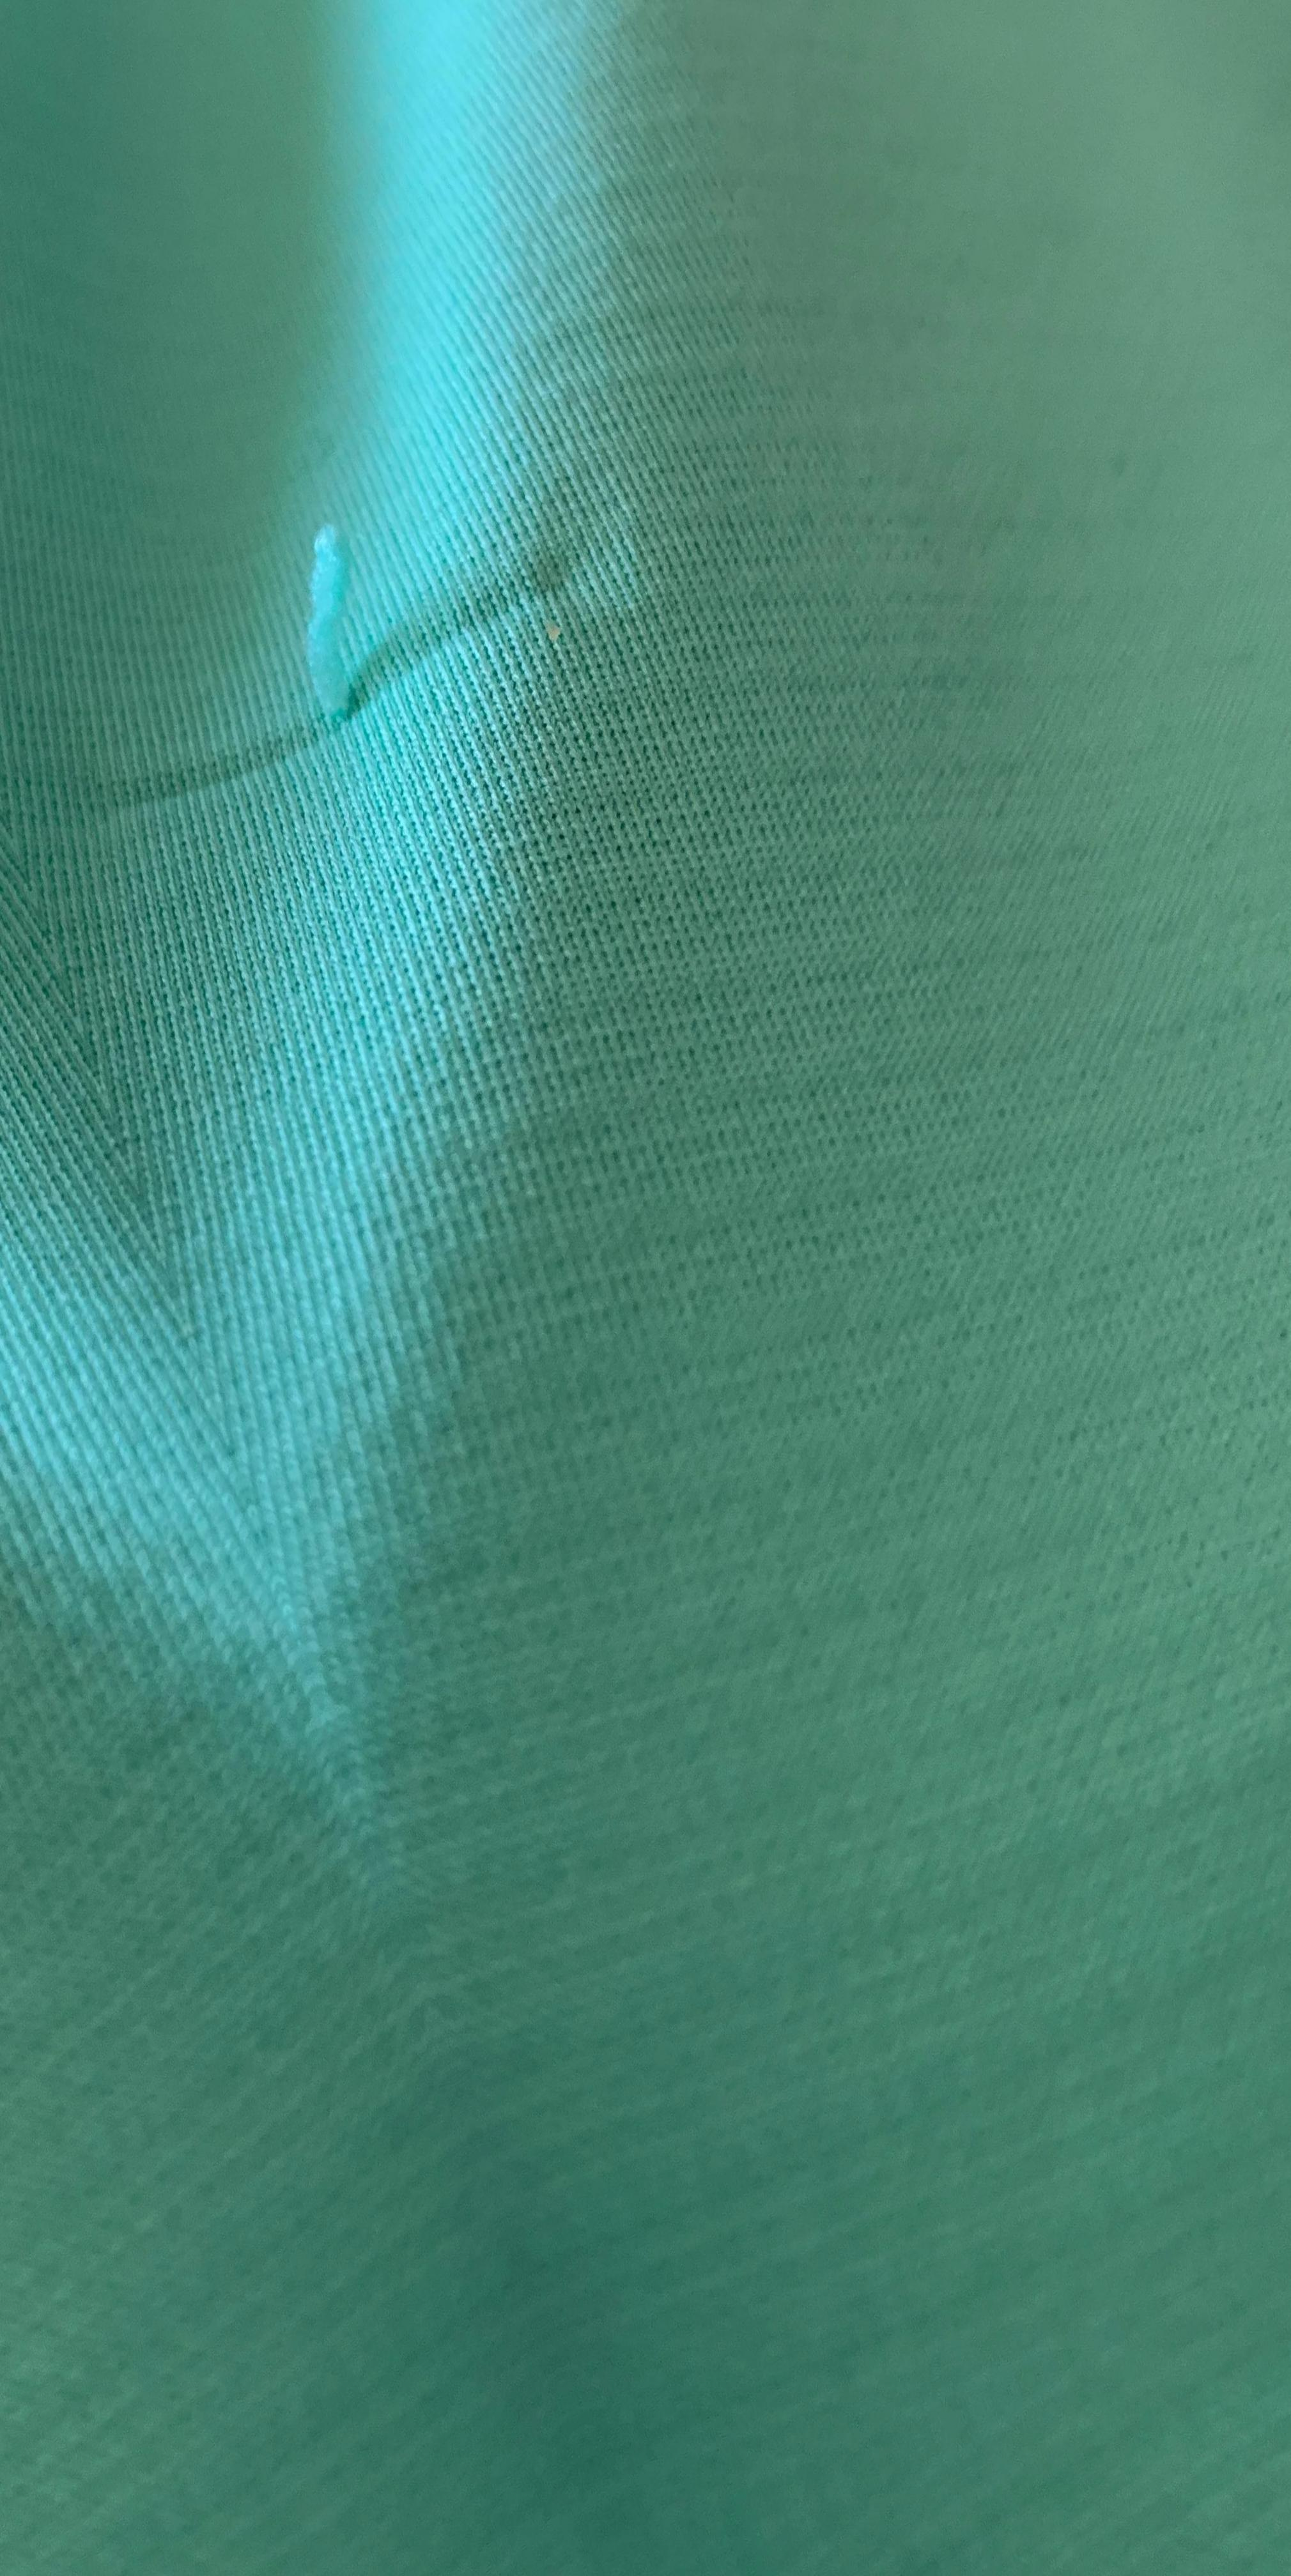snag: (234, 471, 474, 820)
